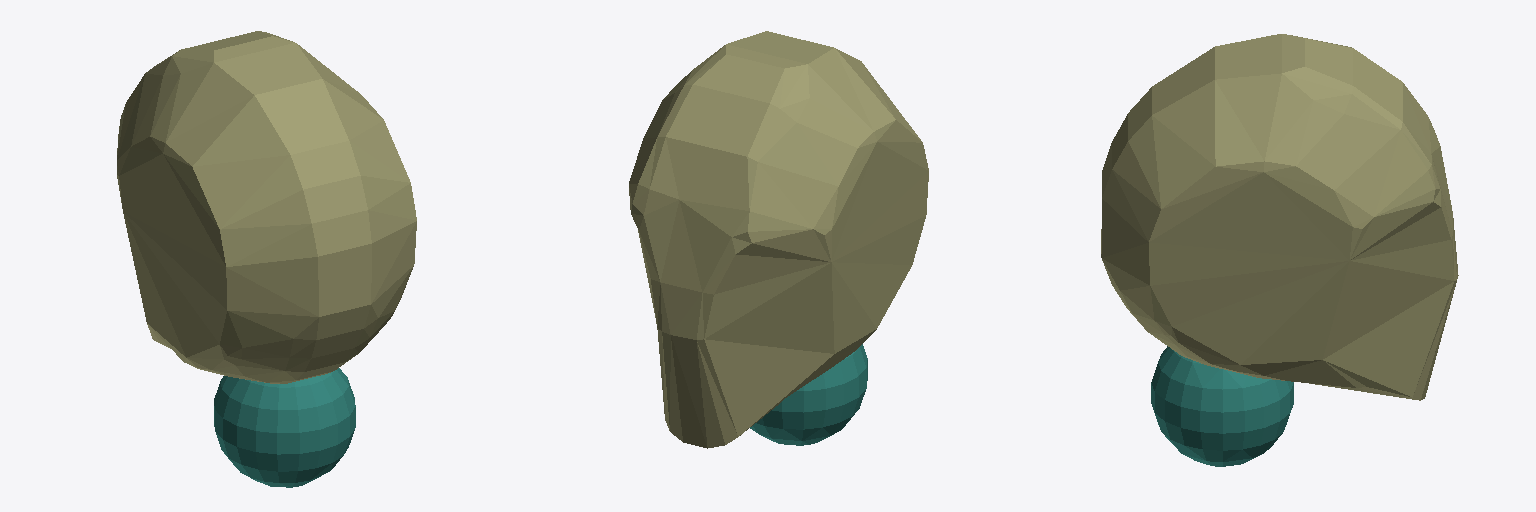
The picture shows the model from 3 angles: view 1: azimuth 30°, elevation 25°; view 2: azimuth 150°, elevation 25°; view 3: azimuth 270°, elevation 25°; orthographic projection.
Visible parts, largest first — view 1: cabeza_Alpha_HighJointsGeo.001; view 2: cabeza_Alpha_HighJointsGeo.001; view 3: cabeza_Alpha_HighJointsGeo.001.
Boxes of the visible parts, box(x1,y1,x2,y2) form: cabeza_Alpha_HighJointsGeo.001: box(117, 31, 416, 487); cabeza_Alpha_HighJointsGeo.001: box(629, 31, 928, 448); cabeza_Alpha_HighJointsGeo.001: box(1101, 34, 1458, 466).
Size of the model in its own units: 2.63 by 5.05 by 4.02.
Materials: 1 (1 with a texture image).